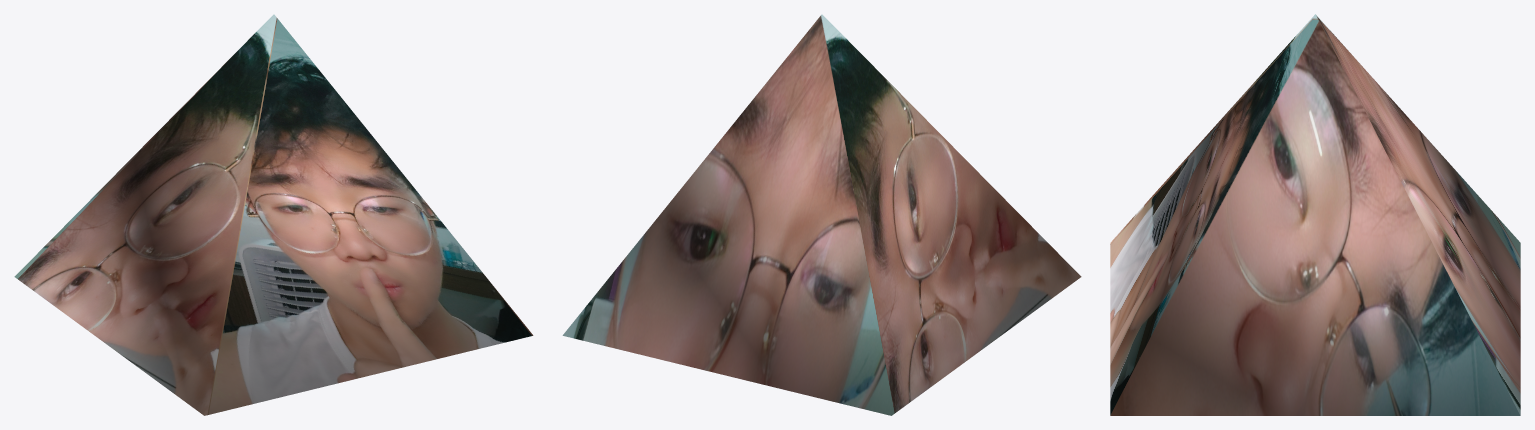
Rendered from jabamium.glb.
The picture shows the model from 3 angles, left to right: view 1: azimuth 30°, elevation 25°; view 2: azimuth 150°, elevation 25°; view 3: azimuth 270°, elevation 25°; orthographic projection. The views are drawn at different scales.
Parts seen in each view (by area): view 1: Cone; view 2: Cone; view 3: Cone.
Boxes of the visible parts, x1=… form: Cone: x1=14, y1=14, x2=533, y2=415; Cone: x1=562, y1=14, x2=1081, y2=415; Cone: x1=1110, y1=14, x2=1520, y2=415.
Bounding box in the file's own units: 1.41 × 1.2 × 1.41.
Materials: 1 (1 with a texture image).
